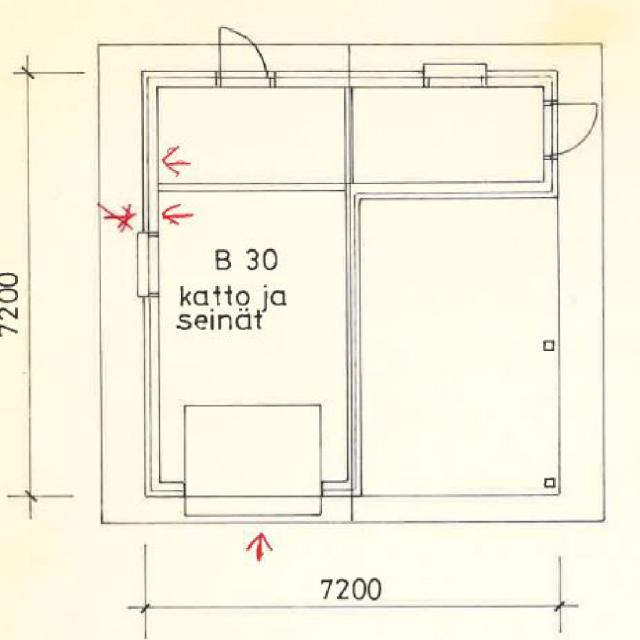door: (544, 103, 607, 154), (220, 24, 267, 87)
